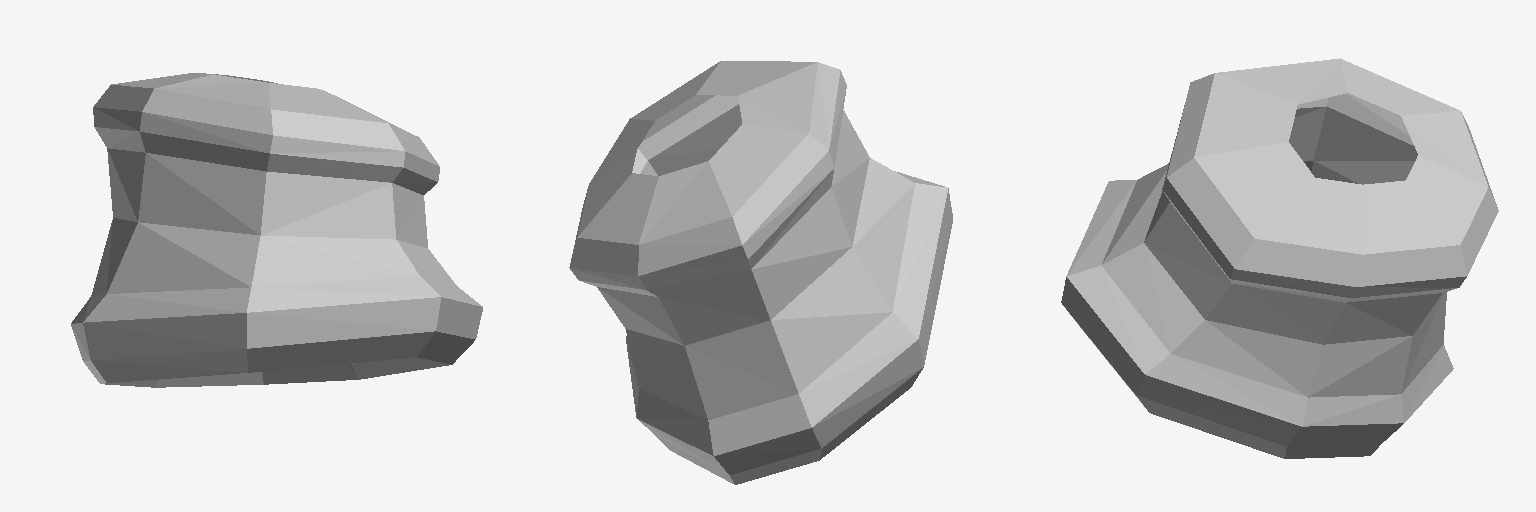
Rendered from arm_cuff.obj.
3 views of the same model, side by side, from view 1: azimuth 30°, elevation 25°; view 2: azimuth 150°, elevation 25°; view 3: azimuth 270°, elevation 25° (orthographic).
Parts seen in each view (by area): view 1: xms_snowcoat_reference.001_xms_snowcoat_reference.002; view 2: xms_snowcoat_reference.001_xms_snowcoat_reference.002; view 3: xms_snowcoat_reference.001_xms_snowcoat_reference.002.
Boxes of the visible parts, <box> form: xms_snowcoat_reference.001_xms_snowcoat_reference.002: <box>71,73,482,387</box>; xms_snowcoat_reference.001_xms_snowcoat_reference.002: <box>569,61,952,484</box>; xms_snowcoat_reference.001_xms_snowcoat_reference.002: <box>1061,58,1498,458</box>.
Size of the model in its own units: 12.75 by 13.14 by 14.92.